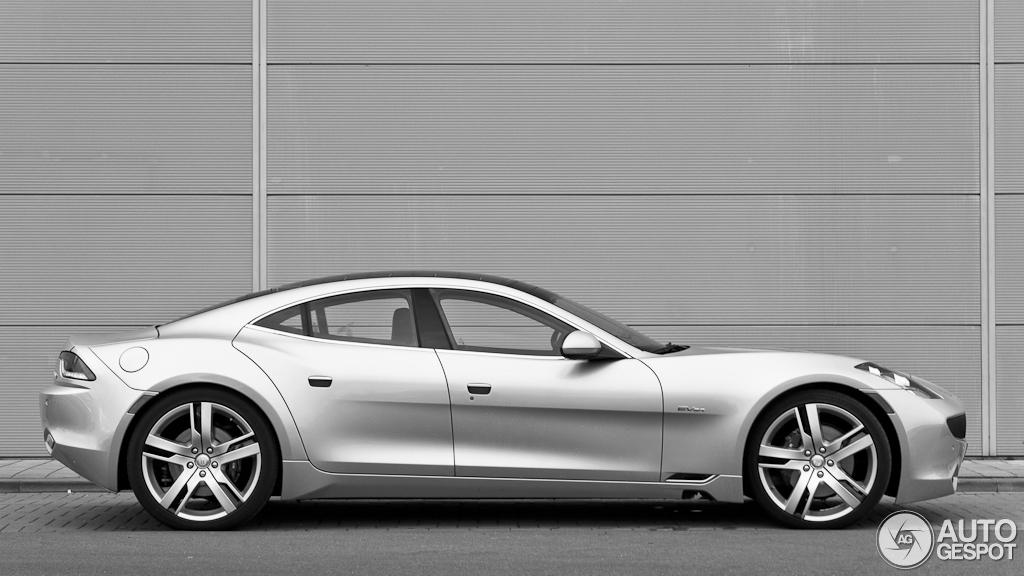car: (44, 271, 970, 532)
